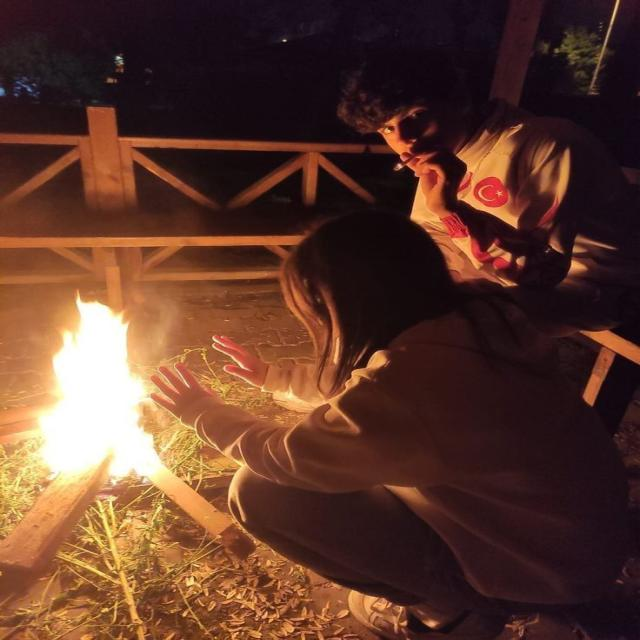fire: (38, 294, 162, 473)
